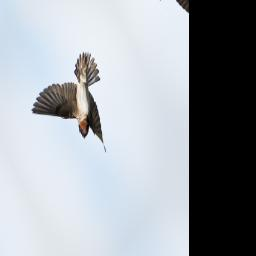Swallow: (27, 33, 128, 199)
